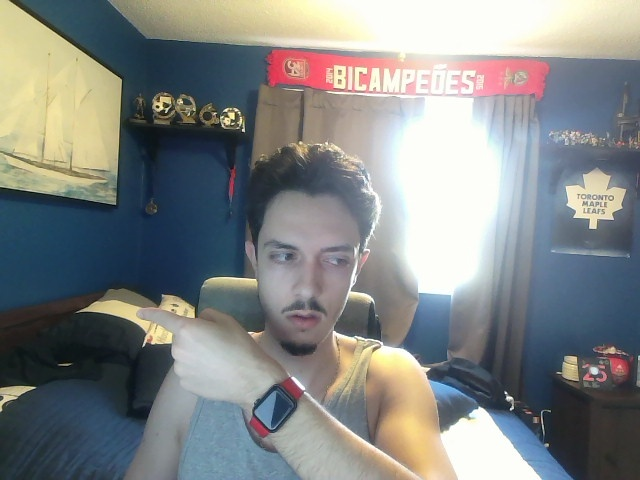Right: (136, 306, 265, 406)
